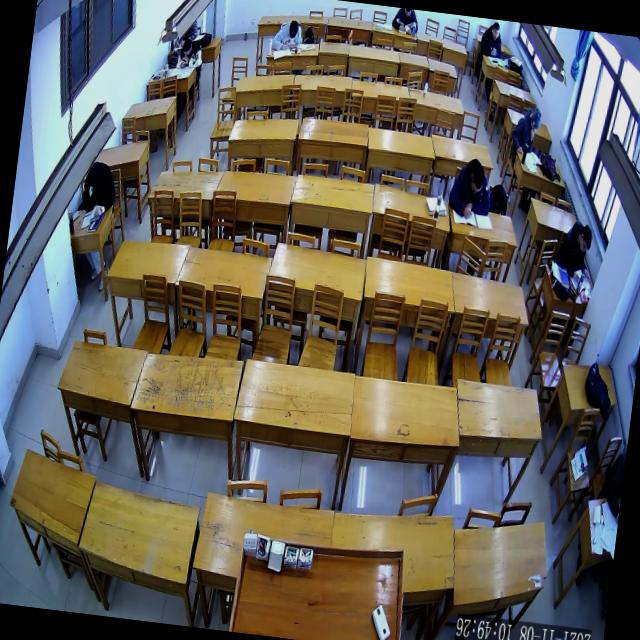bow: (269, 15, 304, 54)
down: (576, 221, 594, 255), (468, 166, 486, 198), (528, 104, 544, 134), (286, 18, 301, 40), (180, 36, 193, 58)
lookup: (488, 20, 502, 42)
sit: (444, 153, 496, 223), (554, 215, 596, 282), (78, 157, 120, 220), (507, 102, 543, 156), (174, 34, 206, 72), (478, 18, 505, 59)
